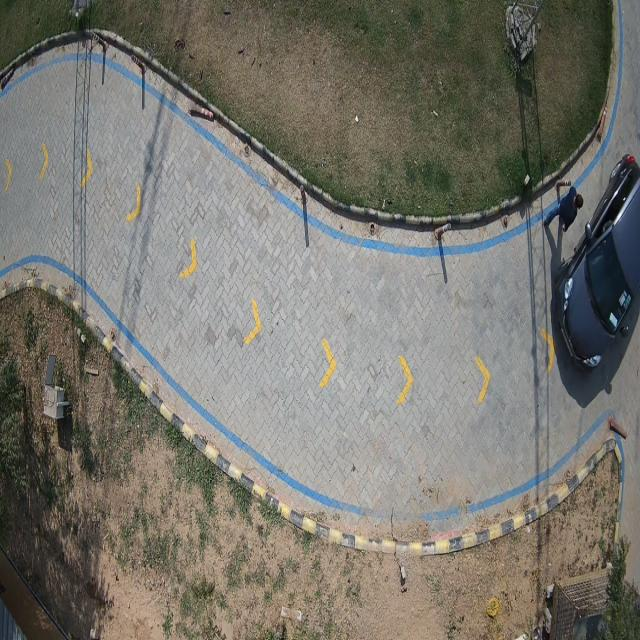car: (555, 156, 640, 369)
